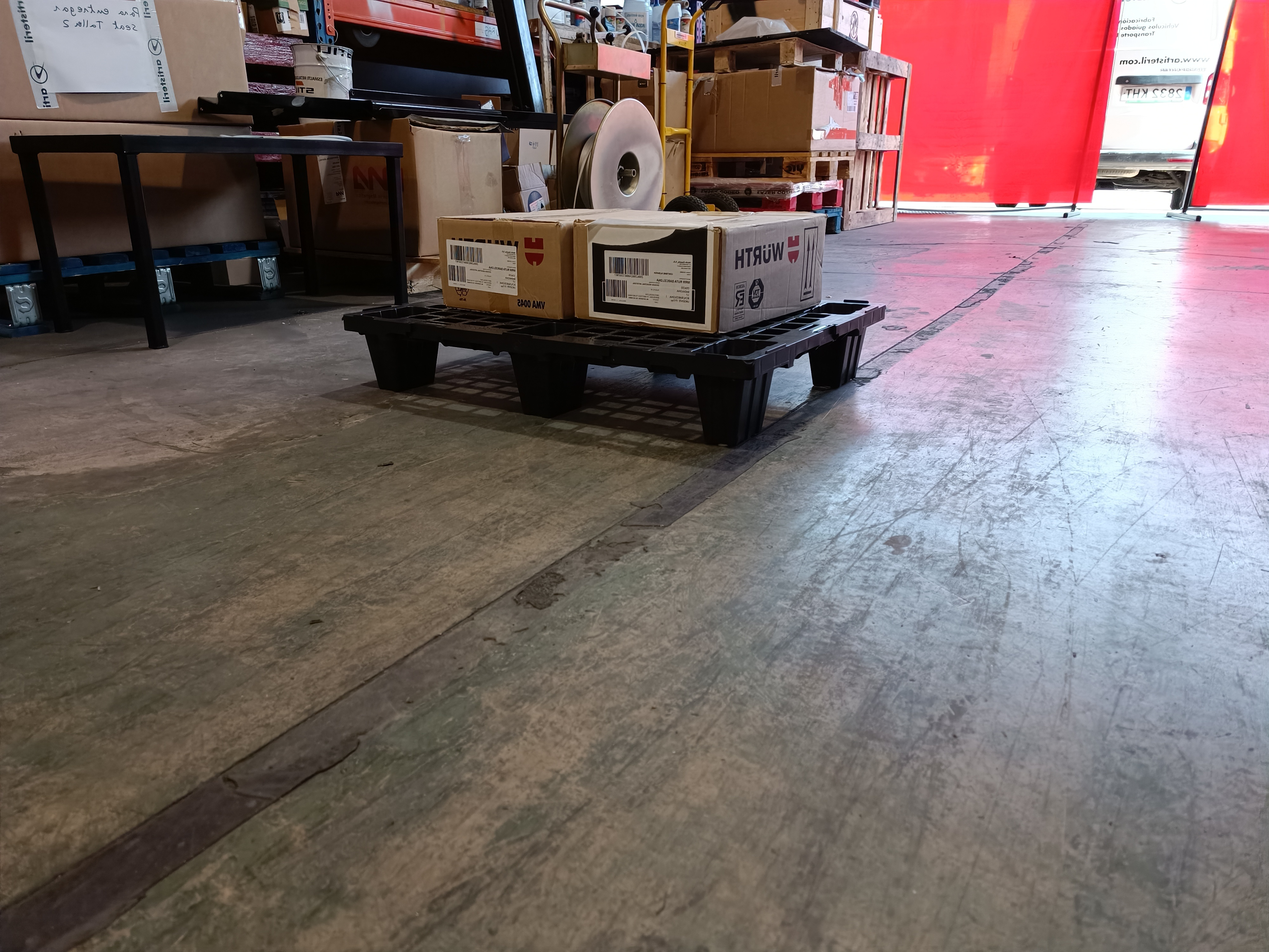block: (811, 308, 878, 398), (366, 330, 439, 402), (514, 353, 590, 416), (700, 376, 766, 447)
front: (338, 316, 760, 468)
hole pallet: (585, 362, 704, 444), (425, 345, 529, 412)
